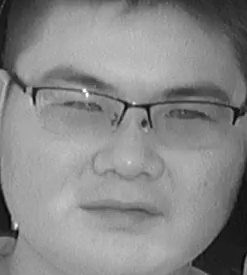eye: (162, 104, 208, 126), (63, 97, 103, 117)
glass: (31, 87, 125, 146), (145, 96, 237, 150)
mouth: (76, 194, 159, 230)
